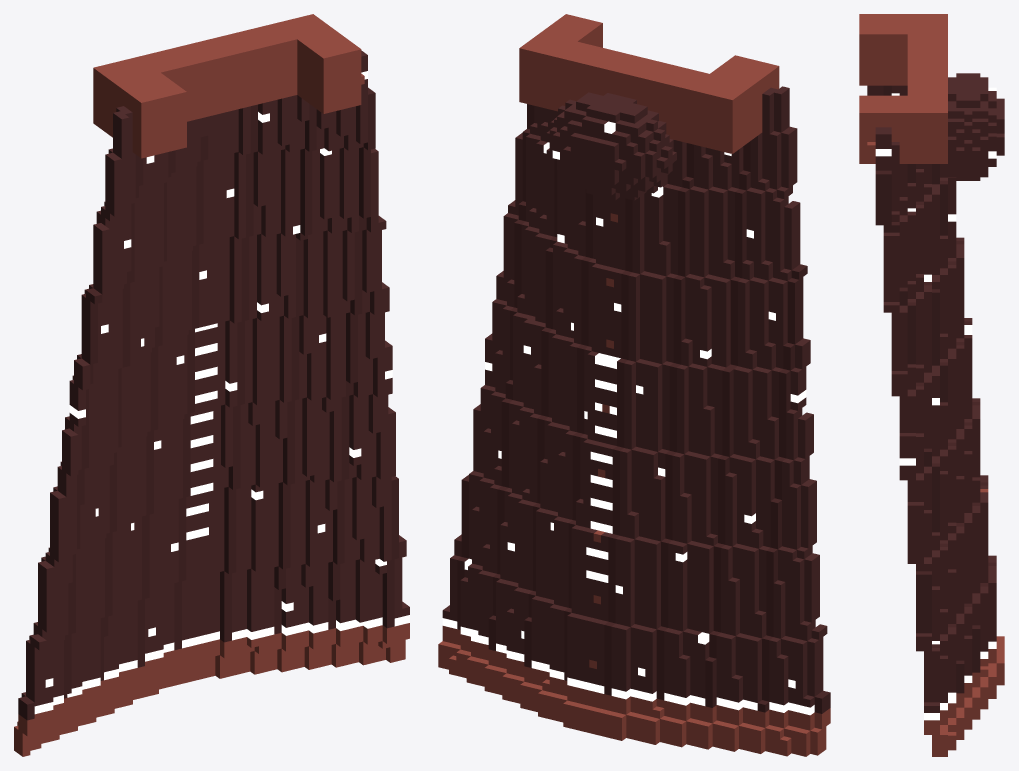
Rendered from mystic_masterwork_cloak.glb.
3 views of the same model, side by side, from view 1: azimuth 30°, elevation 25°; view 2: azimuth 150°, elevation 25°; view 3: azimuth 270°, elevation 25° (orthographic). The views are drawn at different scales.
Visible parts, largest first — view 1: mystic_masterwork_cloak; view 2: mystic_masterwork_cloak; view 3: mystic_masterwork_cloak.
Part boxes in pixels (x1,y1,x2,y2): mystic_masterwork_cloak: (14, 14, 409, 756); mystic_masterwork_cloak: (438, 14, 830, 756); mystic_masterwork_cloak: (859, 14, 1004, 756).
Bounding box in the file's own units: 0.612 × 0.996 × 0.216.
